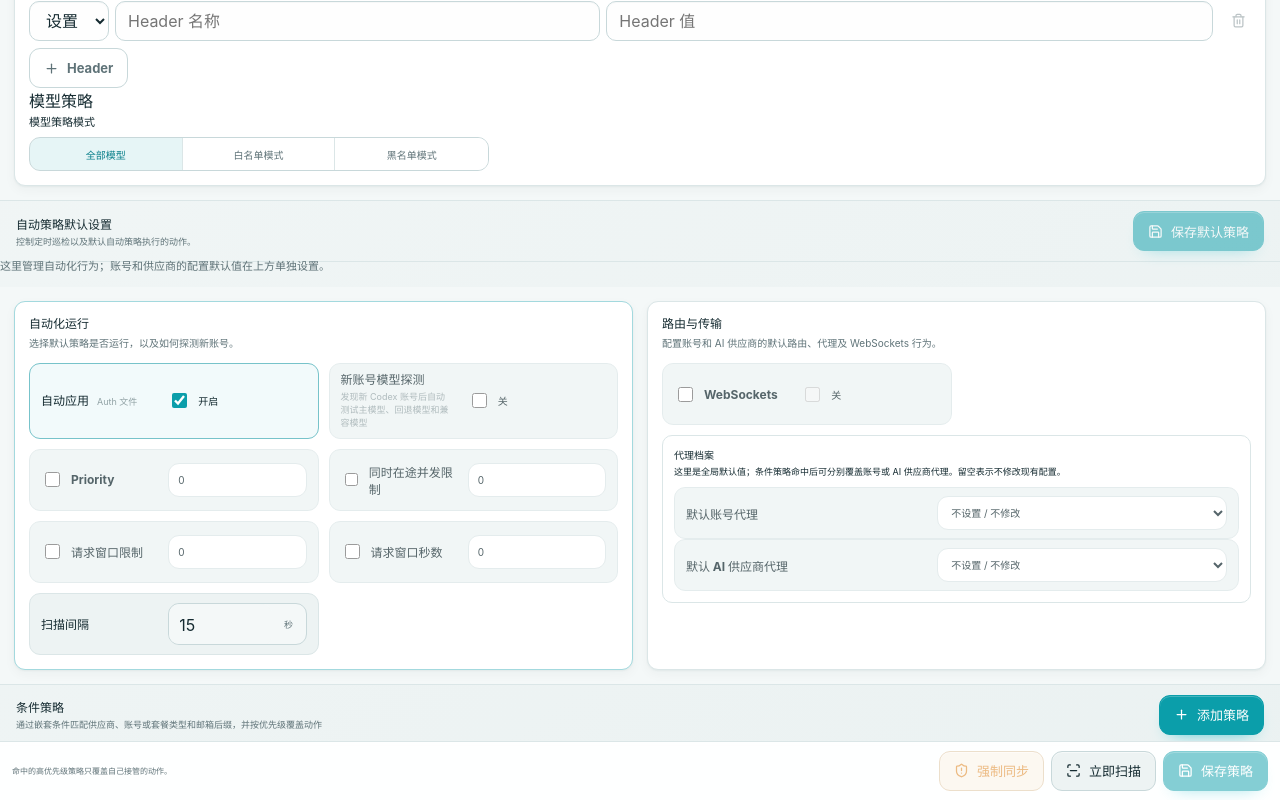
Test case: AutomationPolicySettings › saves without running until the user explicitly starts the asynchronous scan
(page scrolled)
Click the checkbox named "启用新账号模型探测": coordinates (479, 401) [472, 393, 487, 408]
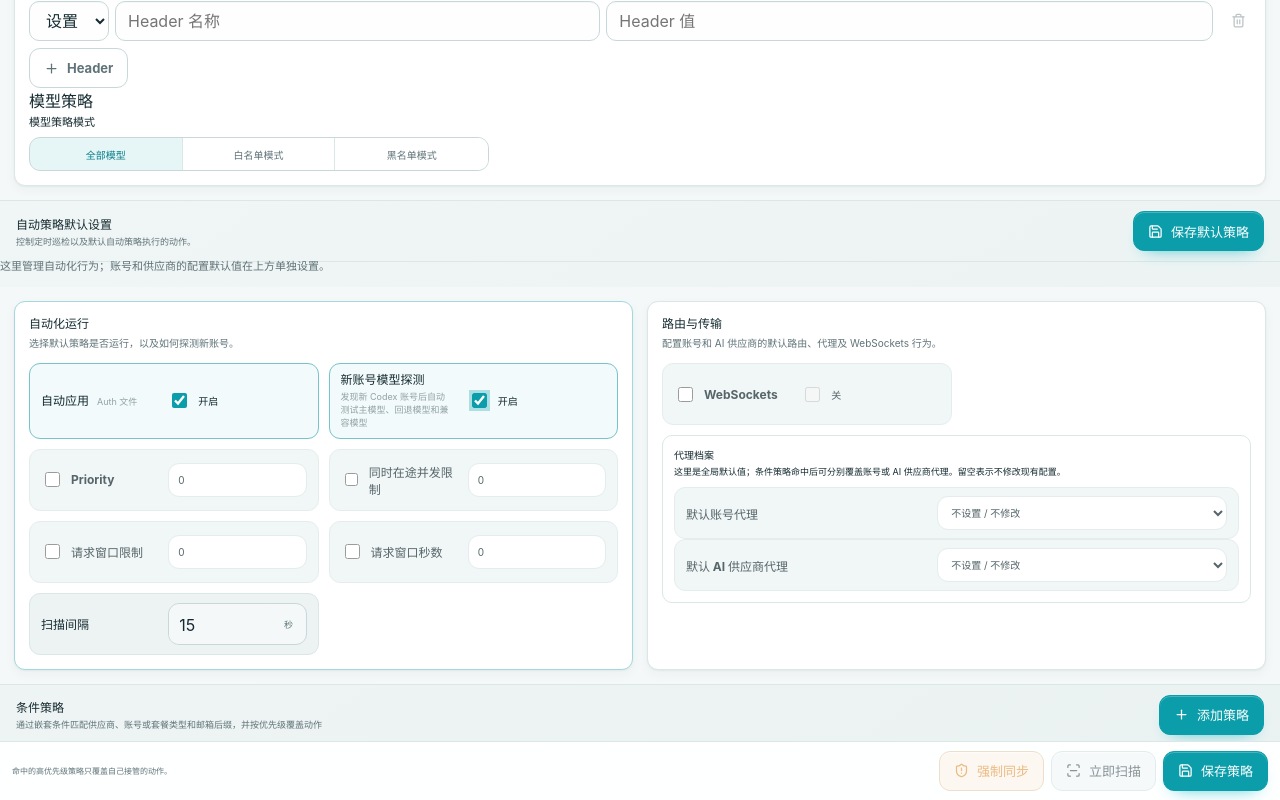
Click the button "保存策略": coordinates (1216, 771) [1163, 751, 1268, 791]
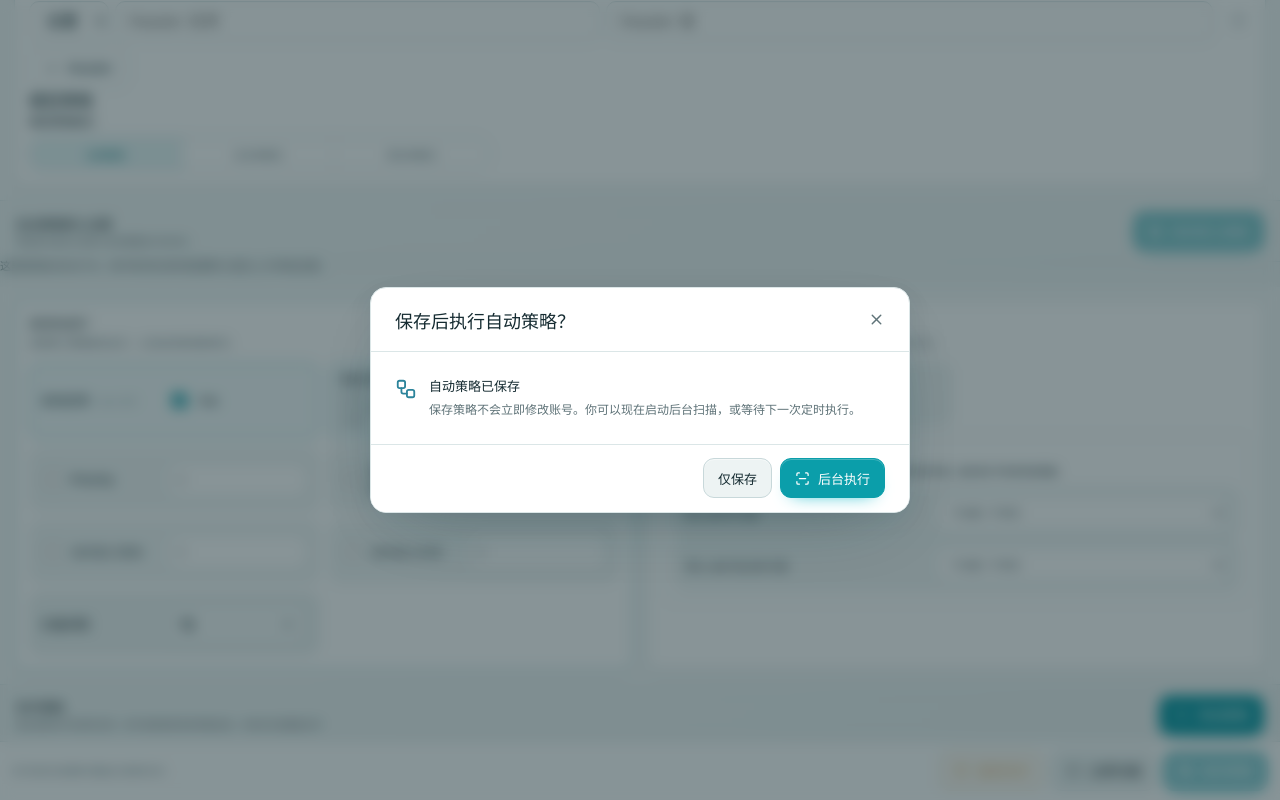
Expected: the dialog "保存后执行自动策略？" is shown, [370, 287, 910, 513]
Click the button "仅保存": coordinates (738, 478) [703, 458, 772, 498]
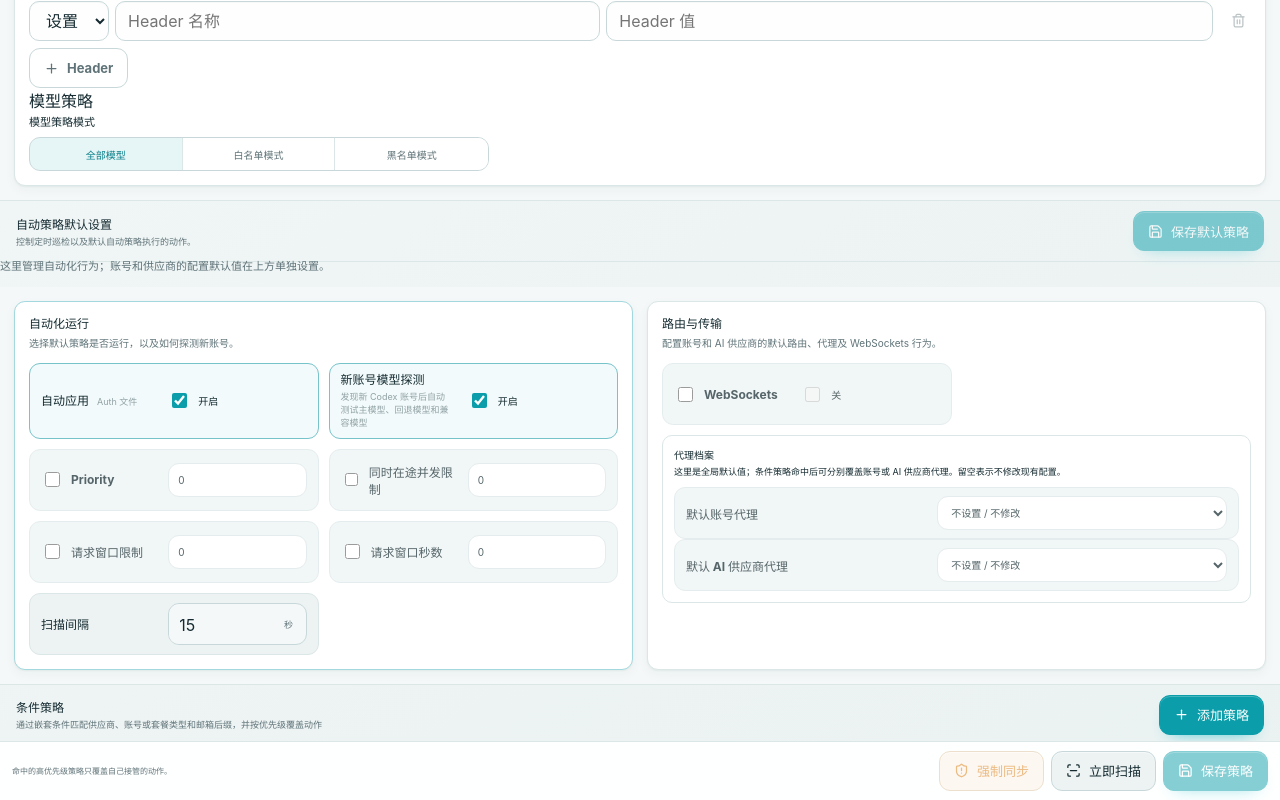
Expected: the heading "保存后执行自动策略？" is gone
